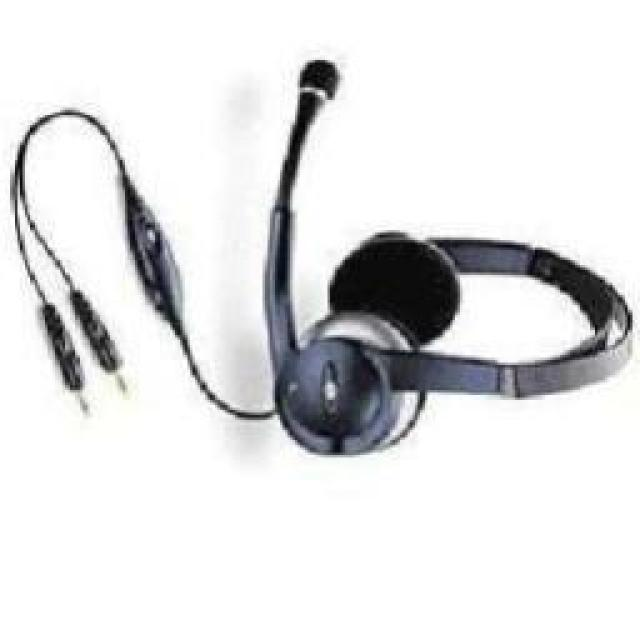kulaklik: (0, 43, 640, 460)
